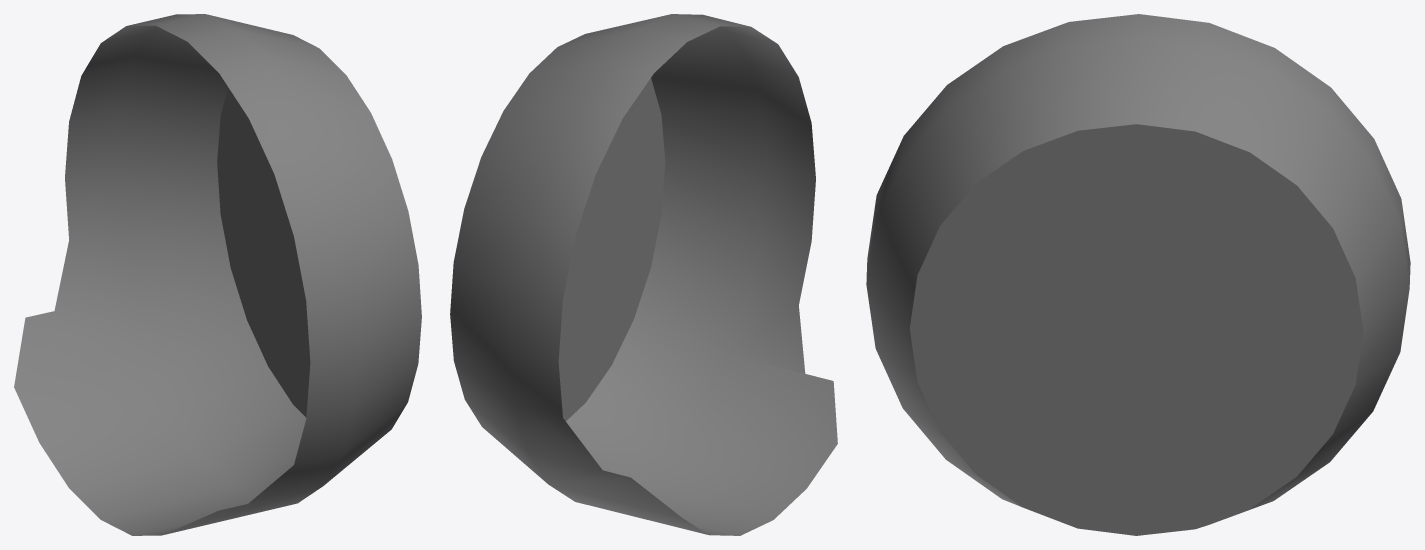
Rendered from q-scifi-mod-wallwindow-cap-a.glb.
3 views of the same model, side by side, from view 1: azimuth 30°, elevation 25°; view 2: azimuth 150°, elevation 25°; view 3: azimuth 270°, elevation 25° (orthographic). The views are drawn at different scales.
Parts seen in each view (by area): view 1: WallWindow_Cap_A; view 2: WallWindow_Cap_A; view 3: WallWindow_Cap_A.
Part boxes in pixels (<box>): WallWindow_Cap_A: <box>14,14,421,535</box>; WallWindow_Cap_A: <box>450,14,837,535</box>; WallWindow_Cap_A: <box>866,14,1410,535</box>.
Size of the model in its own units: 0.2008 by 0.3958 by 0.3954.
2 materials, 2 textured.
